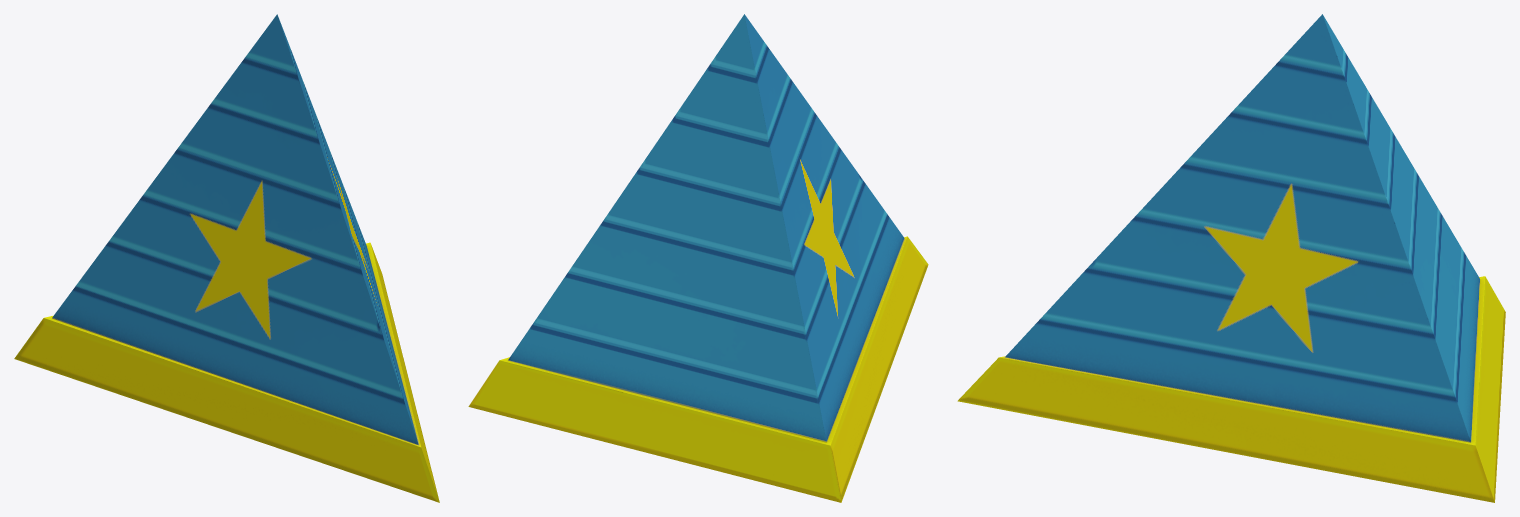
Rendered from daggerBoardBack.fbx.
3 renders of one model, left to right at view 1: azimuth 30°, elevation 25°; view 2: azimuth 150°, elevation 25°; view 3: azimuth 270°, elevation 25°, orthographic. The views are drawn at different scales.
Visible parts, largest first — view 1: daggerBoardBack; view 2: daggerBoardBack; view 3: daggerBoardBack.
Part boxes in pixels (left/top/right/bottom): daggerBoardBack: left=14, top=14, right=439, bottom=502; daggerBoardBack: left=468, top=14, right=928, bottom=502; daggerBoardBack: left=957, top=14, right=1505, bottom=502.
Size of the model in its own units: 0.293 by 0.2804 by 0.356.
